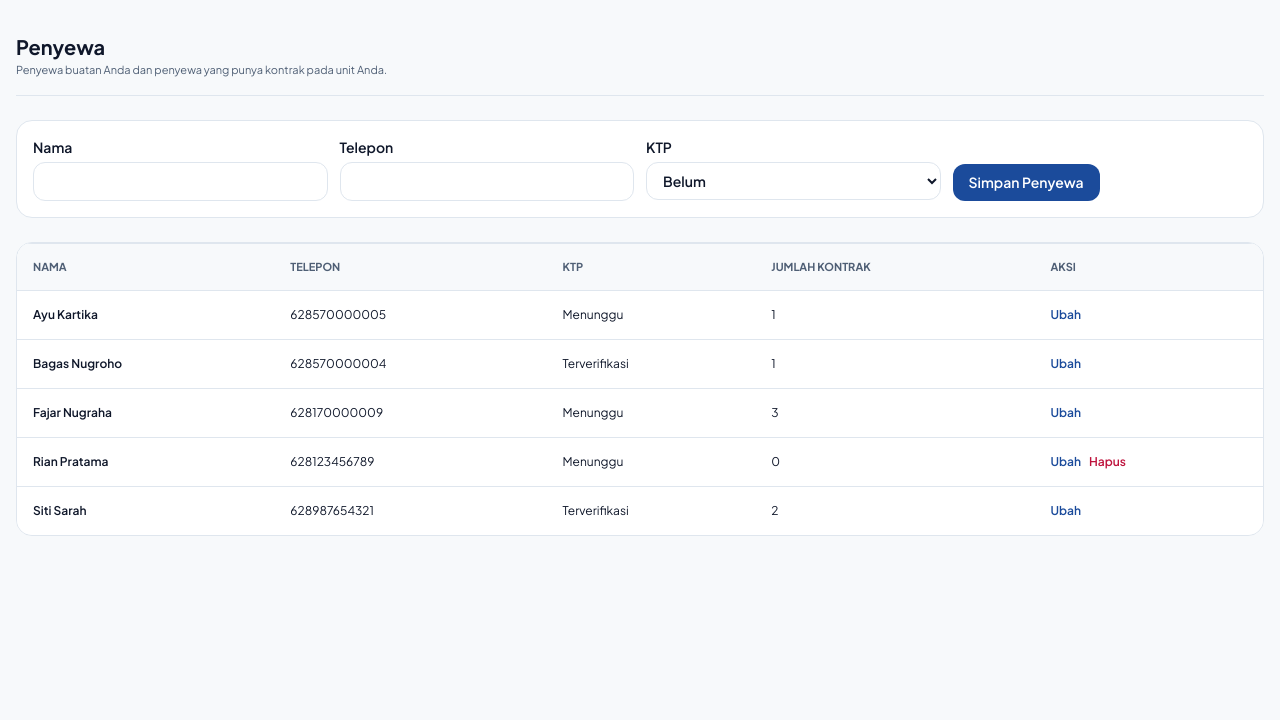
Test: OwnerTenantsPage › menambah penyewa tanpa akun
Check: the text "Rian Pratama" is shown, box [17,438,274,487]
Type "Budi Santoso" into the field labelled "Nama" at coordinates (180, 181), box [33,162,328,200]
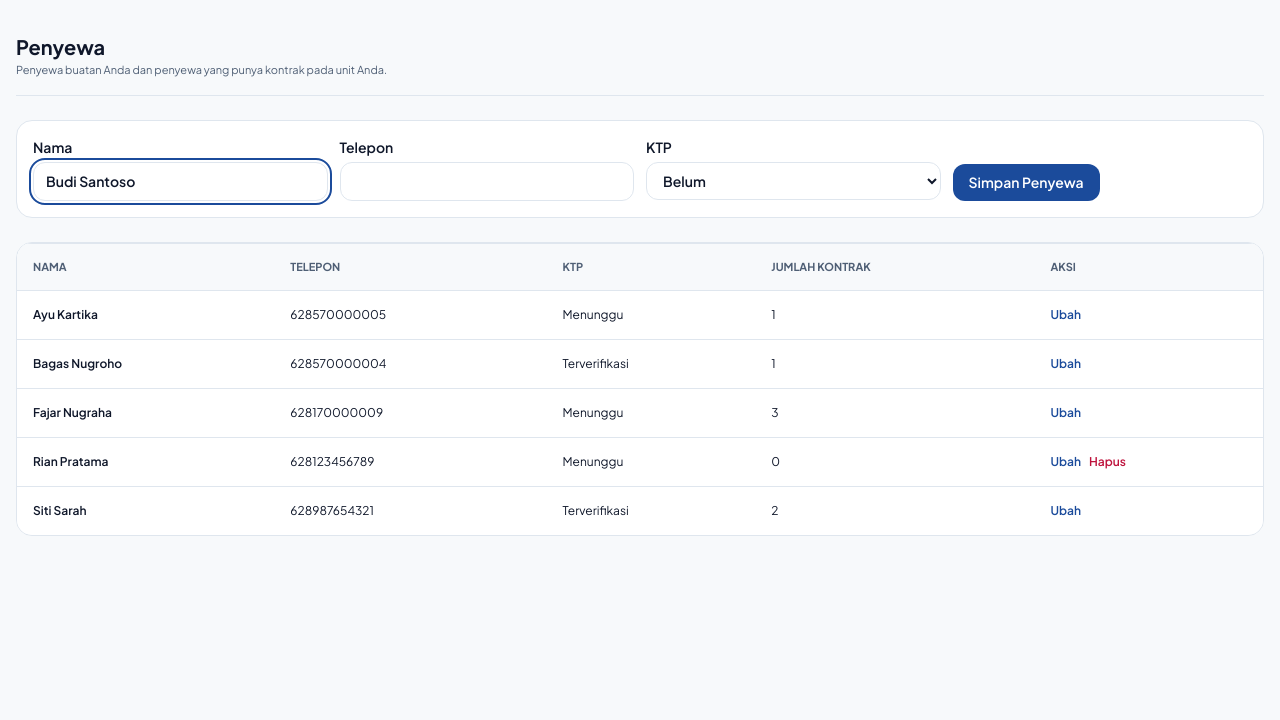
Type "628111222333" into the field labelled "Telepon" at coordinates (487, 181), box [340,162,634,200]
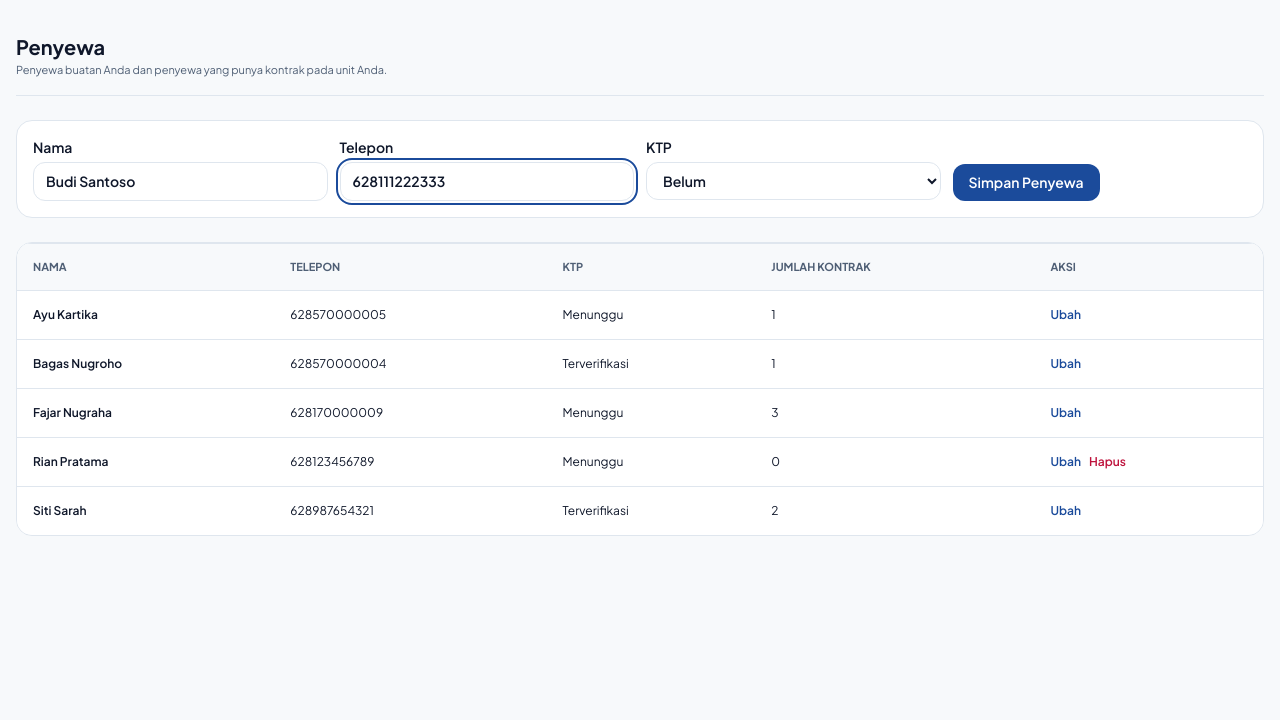
Click the button "Simpan Penyewa" at coordinates (1026, 182), box [952,164,1100,200]
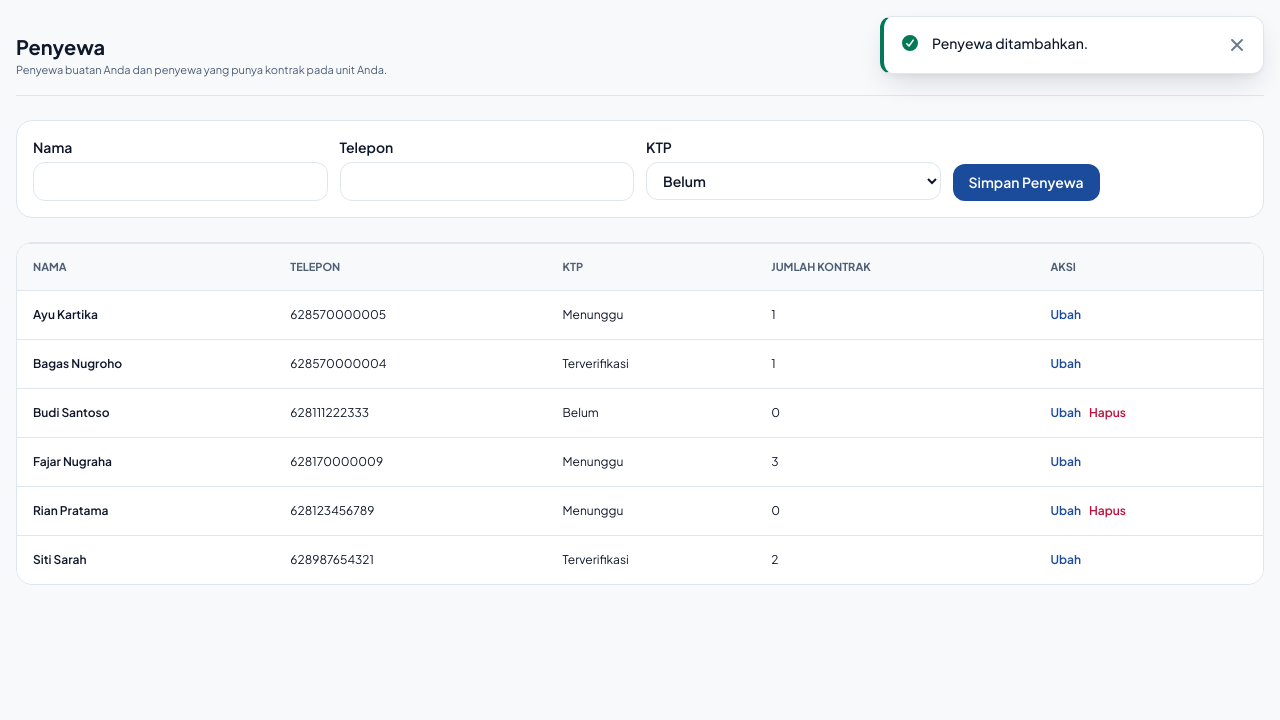
Check: the text "Budi Santoso" is shown, box [17,389,274,438]
